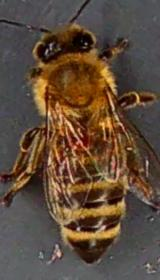varroa_mite: (62, 123, 95, 153)
